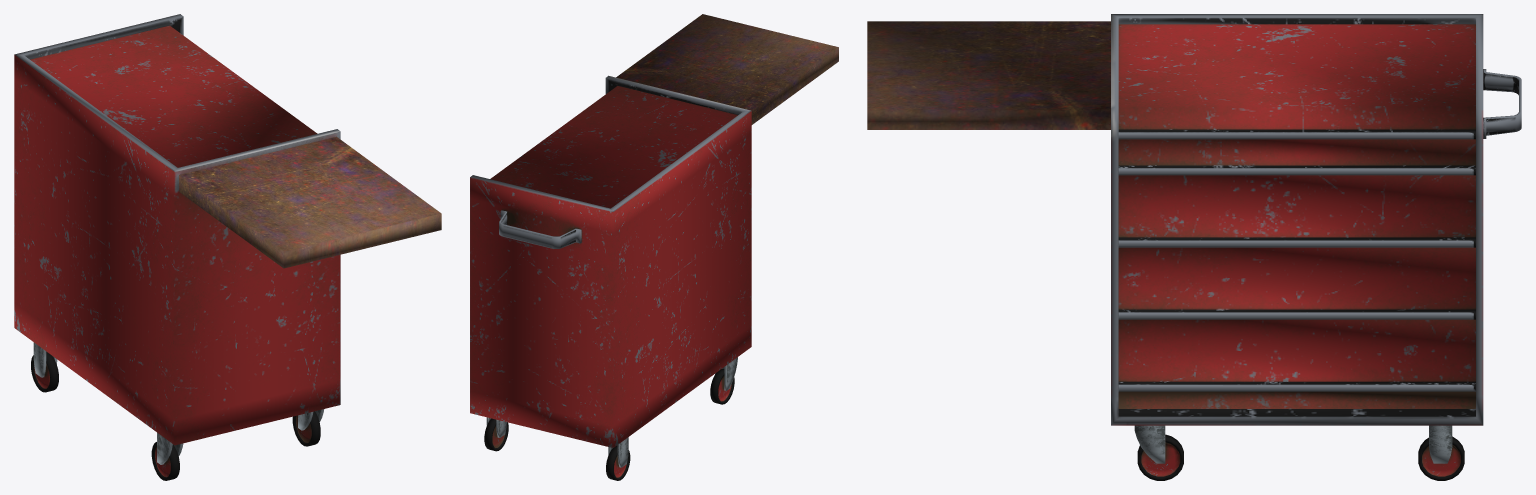
The model's file is Maintenance_ToolCart.fbx.
3 renders of one model, left to right at view 1: azimuth 30°, elevation 25°; view 2: azimuth 150°, elevation 25°; view 3: azimuth 270°, elevation 25°, orthographic. The views are drawn at different scales.
Visible parts, largest first — view 1: MainTray; view 2: MainTray; view 3: MainTray.
Part boxes in pixels (box(x1,y1,x2,y2)): MainTray: box(14, 14, 441, 480); MainTray: box(470, 14, 838, 480); MainTray: box(867, 14, 1521, 480).
Bounding box in the file's own units: 58.22 × 109 × 171.
Materials: 1 (1 with a texture image).
